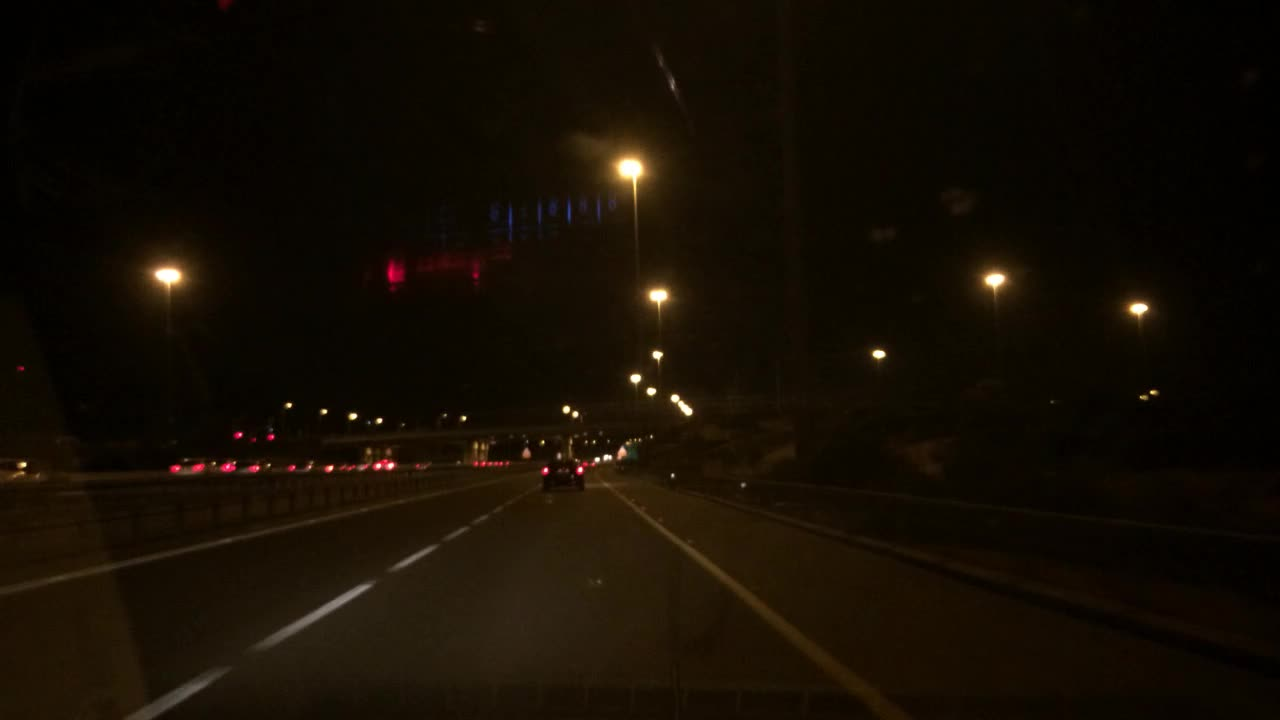car: (538, 451, 586, 491), (0, 455, 55, 484), (371, 447, 428, 470), (171, 453, 213, 478), (221, 459, 272, 476), (320, 453, 364, 472), (429, 451, 461, 468), (272, 461, 314, 472)
